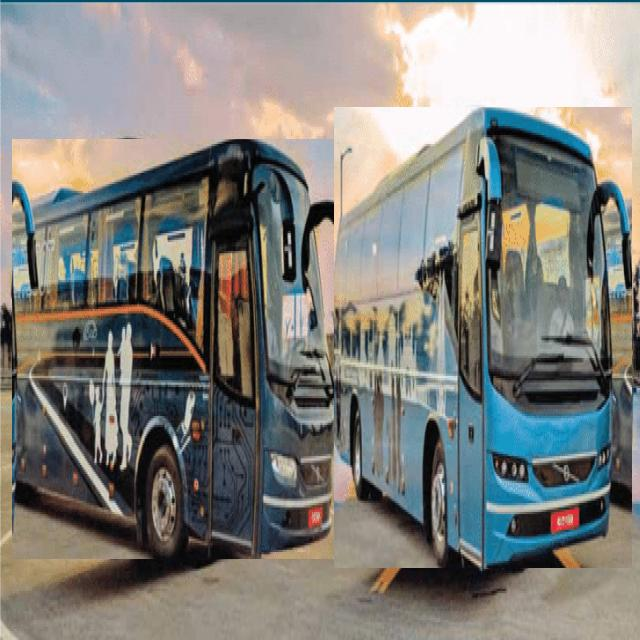bus: (12, 139, 359, 559), (334, 108, 632, 568)
